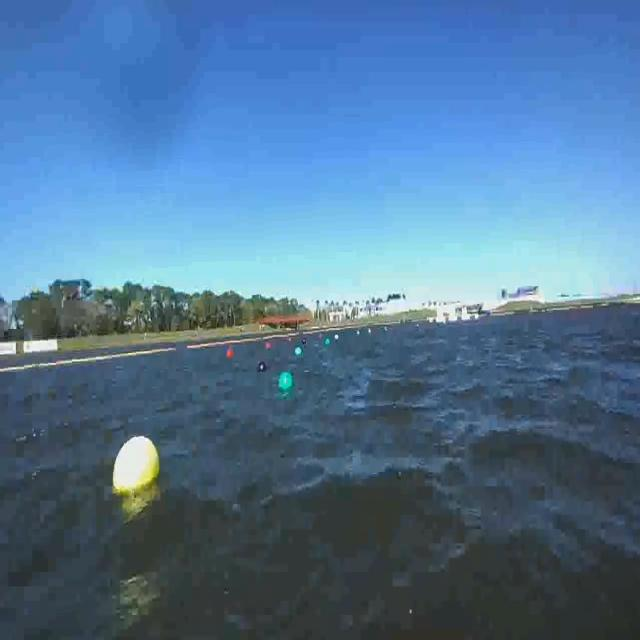black-buoy: (257, 360, 266, 372)
green-buoy: (279, 371, 293, 392), (294, 345, 302, 357)
red-buoy: (225, 348, 233, 359)
yellow-buoy: (113, 435, 161, 494)
